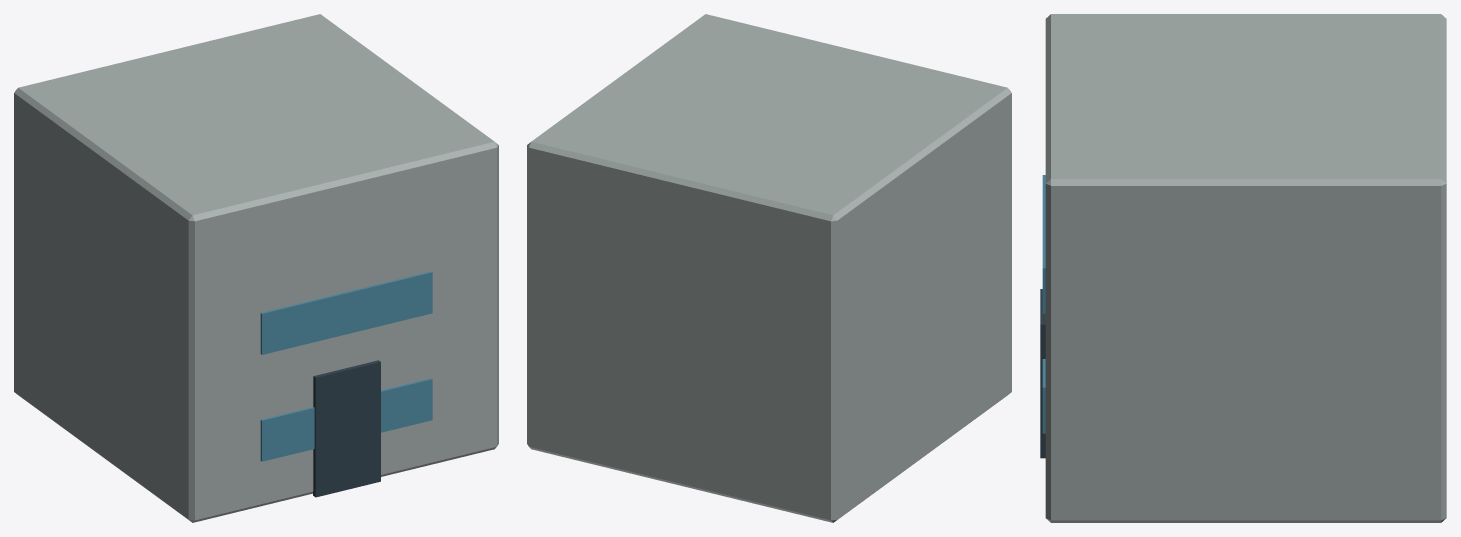
Rendered from neutral-low.glb.
3 renders of one model, left to right at view 1: azimuth 30°, elevation 25°; view 2: azimuth 150°, elevation 25°; view 3: azimuth 270°, elevation 25°, orthographic. The views are drawn at different scales.
Parts seen in each view (by area): view 1: Neutral_Body, Neutral_Entry, Window_F_1_0, Window_F_0_0; view 2: Neutral_Body; view 3: Neutral_Body, Neutral_Entry, Window_F_1_0.
Part boxes in pixels (x1,y1,x2,y2): Neutral_Body: (14,14,498,522); Neutral_Entry: (313,360,380,497); Window_F_1_0: (260,271,432,354); Window_F_0_0: (260,378,432,461); Neutral_Body: (527,14,1011,522); Neutral_Body: (1045,14,1446,522); Neutral_Entry: (1040,289,1045,458); Window_F_1_0: (1042,175,1045,313).
Size of the model in its own units: 3.8 by 3.6 by 3.85.
